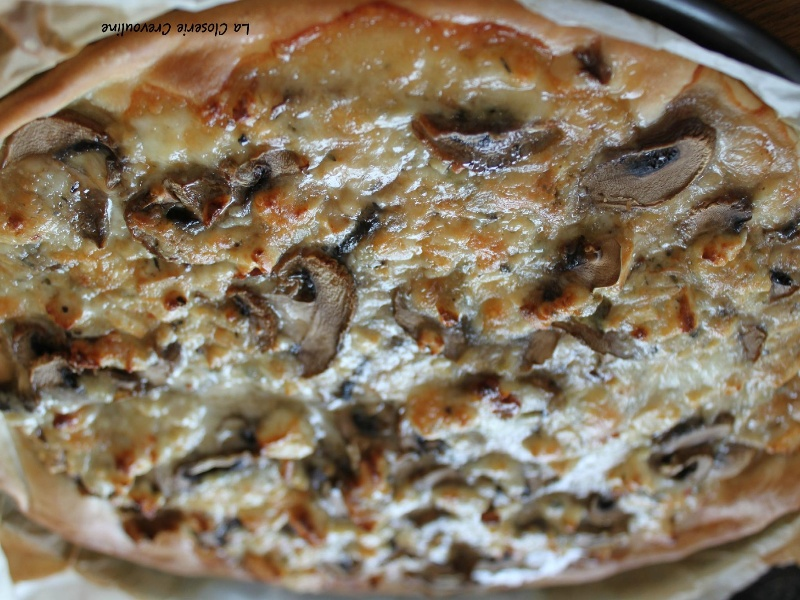champignon: (240, 244, 362, 382), (585, 122, 721, 209)
